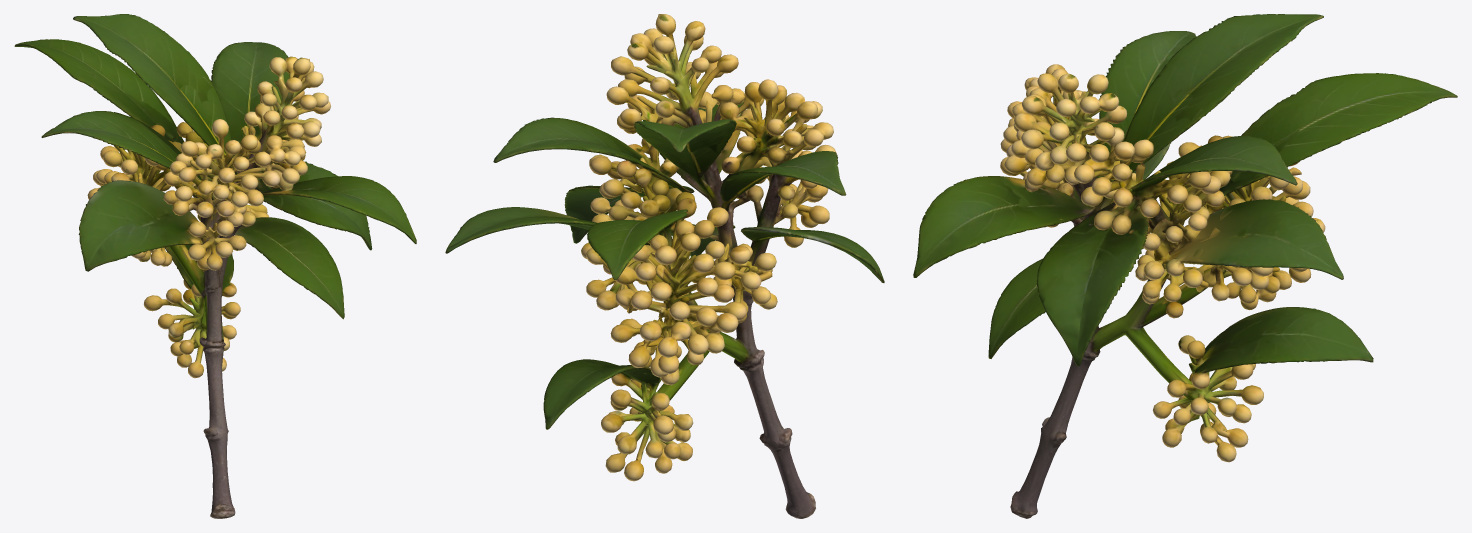
3 views of the same model, side by side, from view 1: azimuth 30°, elevation 25°; view 2: azimuth 150°, elevation 25°; view 3: azimuth 270°, elevation 25° (orthographic). The views are drawn at different scales.
Visible parts, largest first — view 1: node_0; view 2: node_0; view 3: node_0.
Part boxes in pixels (box(x1,y1,x2,y2)): node_0: box(14, 14, 416, 518); node_0: box(445, 14, 884, 518); node_0: box(913, 14, 1457, 518).
Bounding box in the file's own units: 0.7003 × 0.9947 × 0.986.
1 material, 1 textured.
